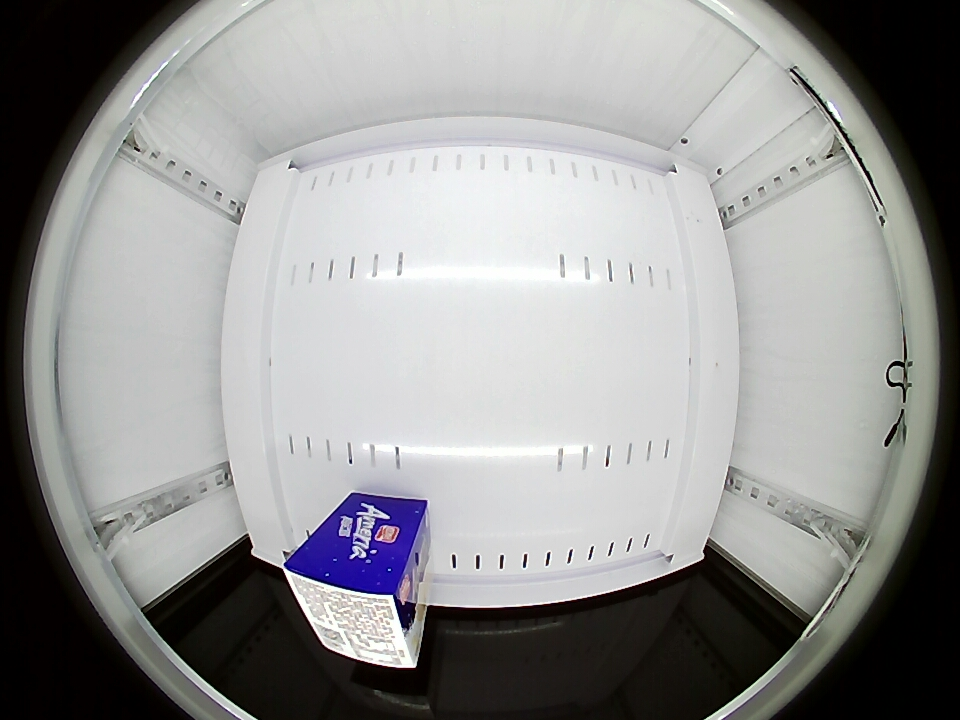meiniye: (284, 540, 420, 670)
